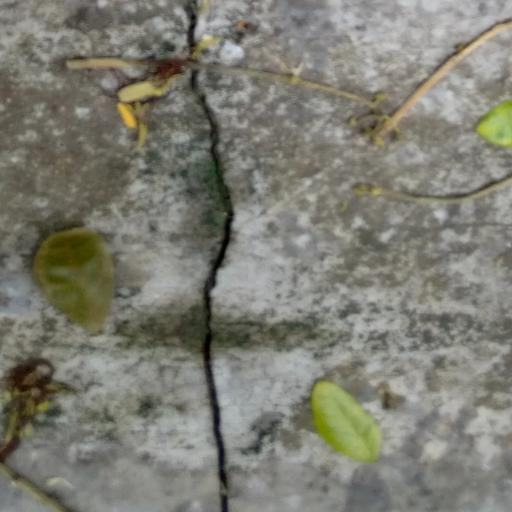major_crack: (174, 0, 255, 512)
